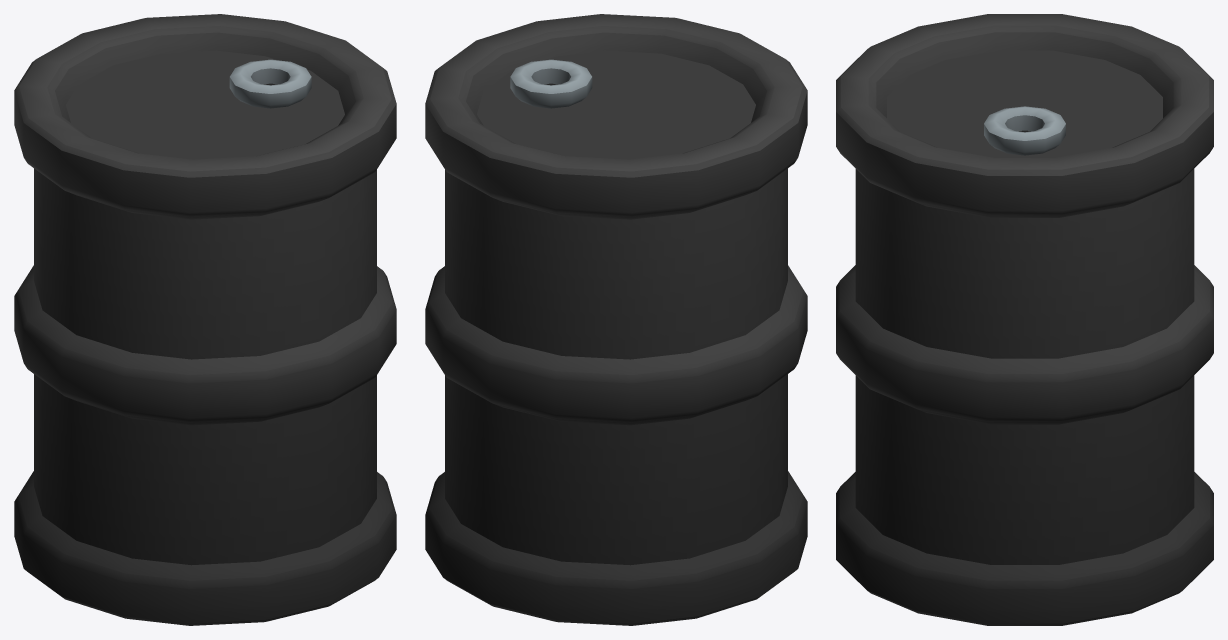
The model's file is oil_barrel.glb.
The picture shows the model from 3 angles, left to right: view 1: azimuth 30°, elevation 25°; view 2: azimuth 150°, elevation 25°; view 3: azimuth 270°, elevation 25°; orthographic projection.
Parts seen in each view (by area): view 1: Fuel_B_Barrel; view 2: Fuel_B_Barrel; view 3: Fuel_B_Barrel.
Boxes of the visible parts, x1,y1,x2,y2 form: Fuel_B_Barrel: (14, 14, 396, 625); Fuel_B_Barrel: (425, 14, 807, 625); Fuel_B_Barrel: (836, 14, 1213, 625).
Bounding box in the file's own units: 0.75 × 1.01 × 0.75.
Materials: 1 (1 with a texture image).
